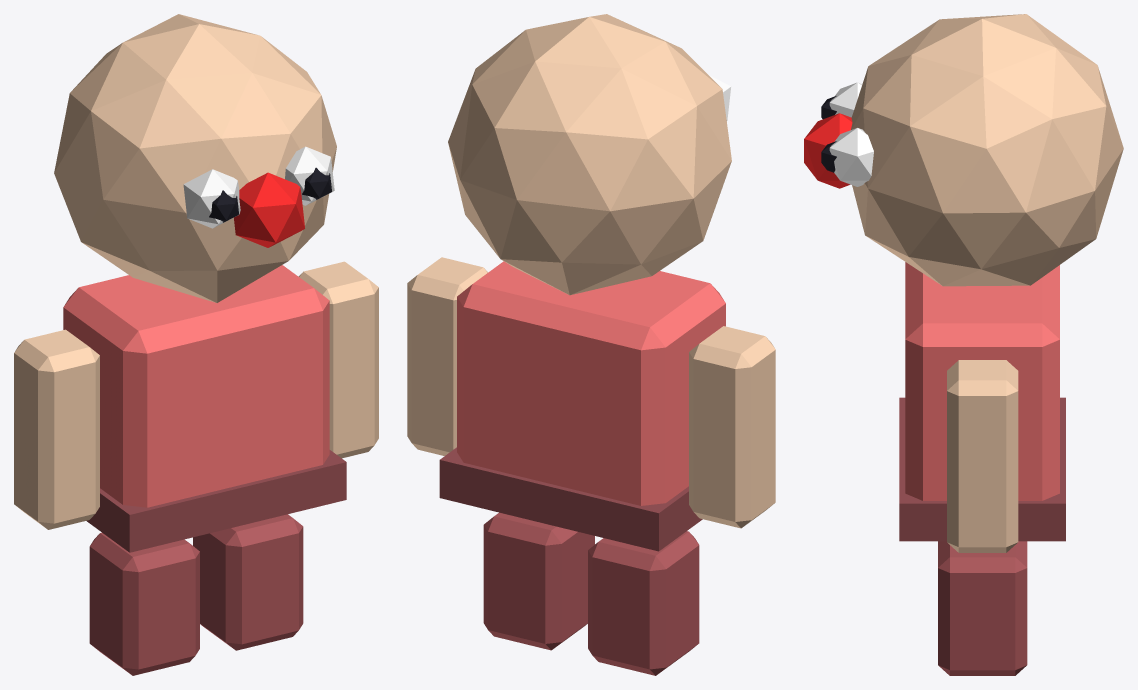
File: ClownGrunt.fbx
3 views of the same model, side by side, from view 1: azimuth 30°, elevation 25°; view 2: azimuth 150°, elevation 25°; view 3: azimuth 270°, elevation 25° (orthographic).
Parts seen in each view (by area): view 1: ClownGrunt; view 2: ClownGrunt; view 3: ClownGrunt.
Boxes of the visible parts, <box> form: ClownGrunt: <box>14,14,378,675</box>; ClownGrunt: <box>407,14,775,675</box>; ClownGrunt: <box>804,14,1123,675</box>.
Size of the model in its own units: 3.3 by 5.73 by 2.68.
1 material, 1 textured.
